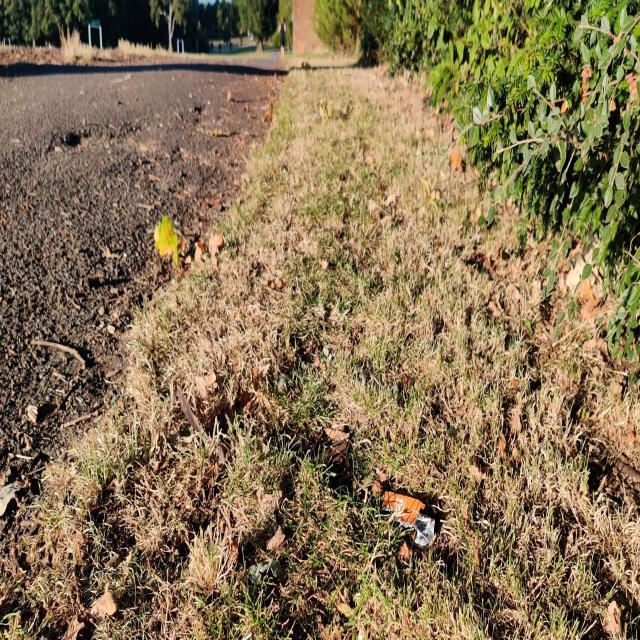litter: (382, 492, 434, 547)
